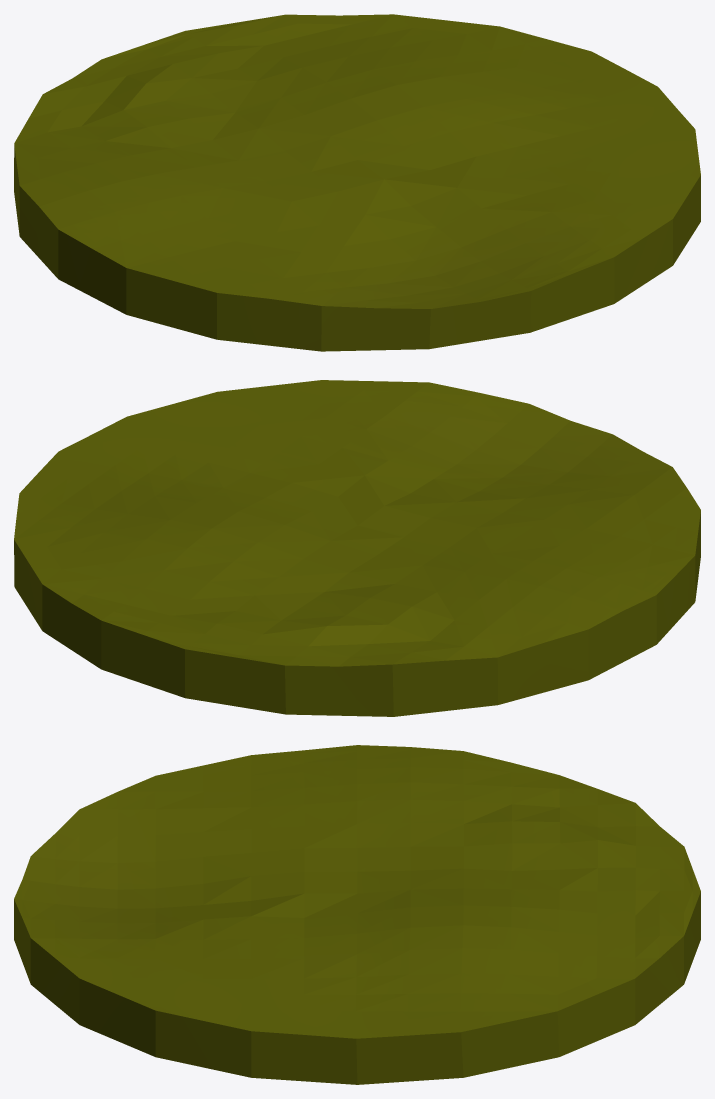
The model's file is mod_terrainCircle01_30x30m.fbx.
3 renders of one model, top to bottom at view 1: azimuth 30°, elevation 25°; view 2: azimuth 150°, elevation 25°; view 3: azimuth 270°, elevation 25°, orthographic.
Parts seen in each view (by area): view 1: Circle.001; view 2: Circle.001; view 3: Circle.001.
Part boxes in pixels (left/top/right/bottom): Circle.001: left=14, top=14, right=700, bottom=351; Circle.001: left=14, top=380, right=700, bottom=716; Circle.001: left=14, top=745, right=700, bottom=1084.
Size of the model in its own units: 3005 by 286 by 3000.
